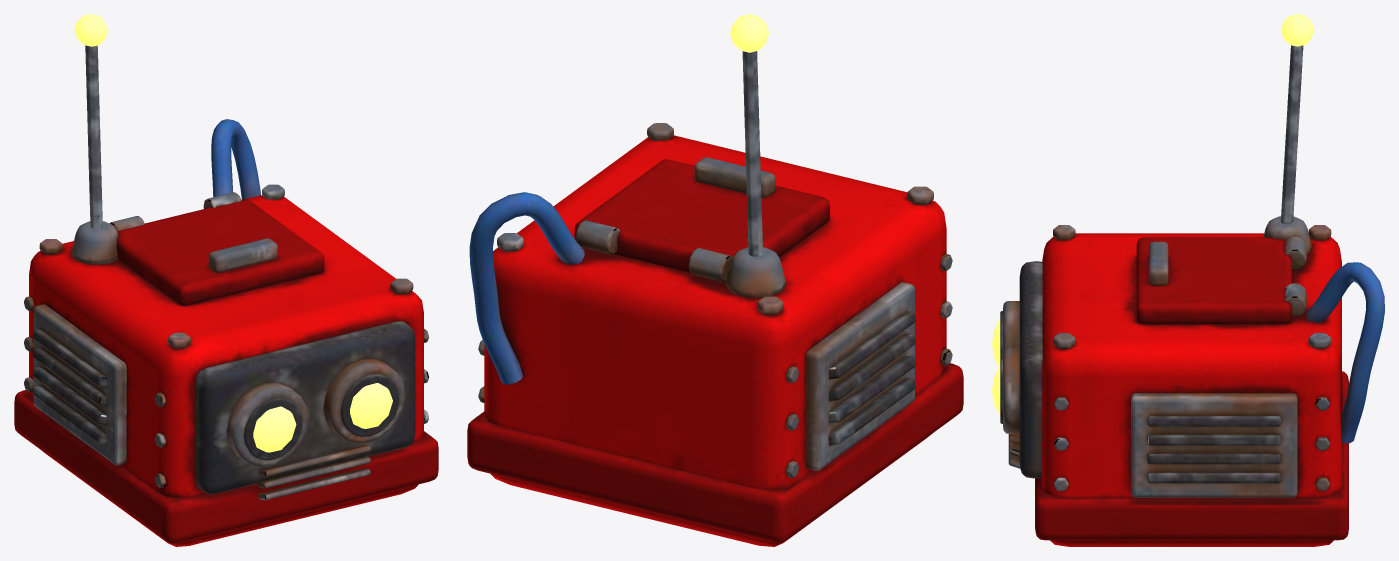
Rendered from core.glb.
3 views of the same model, side by side, from view 1: azimuth 30°, elevation 25°; view 2: azimuth 150°, elevation 25°; view 3: azimuth 270°, elevation 25° (orthographic). The views are drawn at different scales.
Parts seen in each view (by area): view 1: body, whip, glow_eye_l, glow_eye_r, glow_tip; view 2: body, whip, glow_tip; view 3: body, whip, glow_tip.
Boxes of the visible parts, <box> form: body: <box>14,119,438,546</box>; whip: <box>85,45,102,228</box>; glow_eye_l: <box>253,406,296,452</box>; glow_eye_r: <box>350,383,392,428</box>; glow_tip: <box>74,14,107,46</box>; body: <box>467,123,963,546</box>; whip: <box>742,51,762,256</box>; glow_tip: <box>730,14,768,52</box>; body: <box>1000,216,1384,546</box>; whip: <box>1280,45,1303,224</box>; glow_tip: <box>1281,14,1314,46</box>.
Bounding box in the file's own units: 0.6219 × 0.865 × 0.7071.
Materials: 2 (1 with a texture image).
